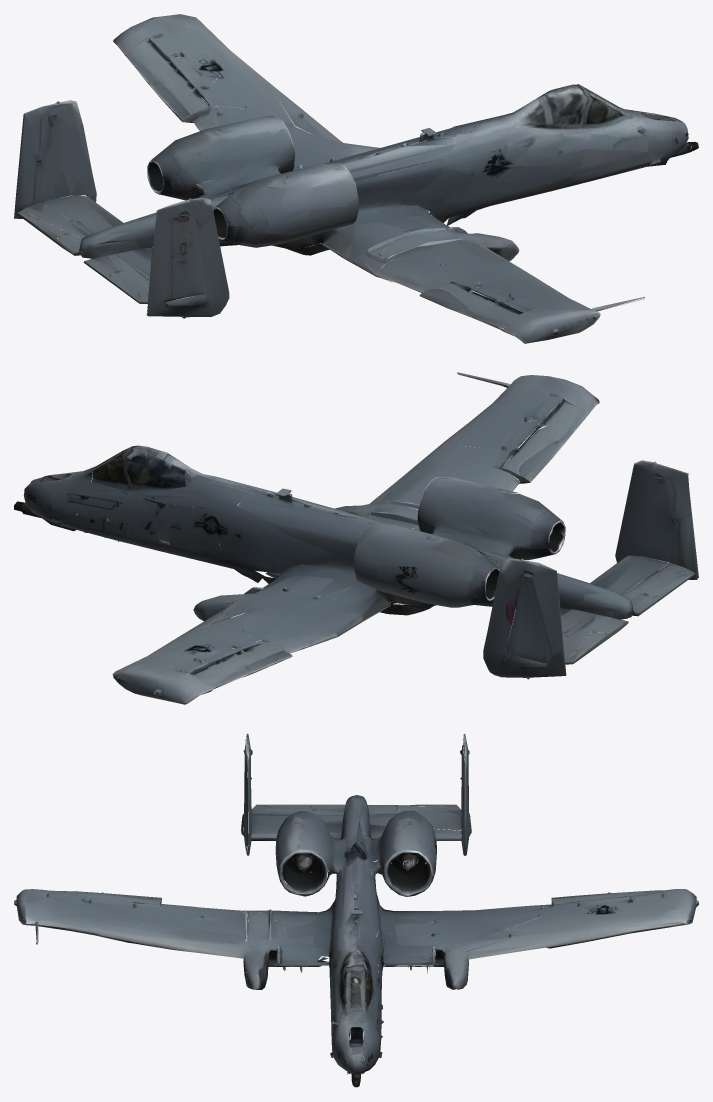
3 renders of one model, top to bottom at view 1: azimuth 30°, elevation 25°; view 2: azimuth 150°, elevation 25°; view 3: azimuth 270°, elevation 25°, orthographic. The views are drawn at different scales.
Visible parts, largest first — view 1: hull, wingR, wingL, engR, finR, engL, finL, stabL, pilot, stabR; view 2: hull, wingL, wingR, engL, finL, engR, finR, stabR, pilot, stabL; view 3: wingR, wingL, hull, engR, engL, stabR, stabL, pilot, finL, finR.
Boxes of the visible parts, x1=… form: hull: x1=63, y1=97, x2=698, y2=258; wingR: x1=282, y1=208, x2=644, y2=343; wingL: x1=113, y1=14, x2=384, y2=181; engR: x1=213, y1=163, x2=358, y2=244; finR: x1=138, y1=197, x2=229, y2=318; engL: x1=147, y1=115, x2=294, y2=196; finL: x1=14, y1=100, x2=96, y2=218; stabL: x1=17, y1=194, x2=123, y2=253; pilot: x1=497, y1=84, x2=627, y2=129; stabR: x1=83, y1=248, x2=152, y2=303; hull: x1=14, y1=457, x2=639, y2=629; wingL: x1=112, y1=569, x2=428, y2=704; wingR: x1=335, y1=372, x2=599, y2=533; engL: x1=353, y1=523, x2=499, y2=603; finL: x1=483, y1=557, x2=573, y2=679; engR: x1=417, y1=476, x2=565, y2=554; finR: x1=615, y1=460, x2=698, y2=579; stabR: x1=590, y1=555, x2=695, y2=614; pilot: x1=86, y1=445, x2=217, y2=497; stabL: x1=560, y1=608, x2=628, y2=663; wingR: x1=14, y1=863, x2=329, y2=989; wingL: x1=382, y1=866, x2=698, y2=989; hull: x1=314, y1=795, x2=399, y2=1087; engR: x1=275, y1=811, x2=336, y2=888; engL: x1=376, y1=810, x2=436, y2=886; stabR: x1=251, y1=804, x2=345, y2=840; stabL: x1=367, y1=804, x2=461, y2=840; pilot: x1=340, y1=944, x2=375, y2=1010; finL: x1=448, y1=734, x2=471, y2=855; finR: x1=241, y1=733, x2=264, y2=855.
Size of the model in its own units: 15.07 by 3.46 by 17.6.
1 material, 1 textured.
